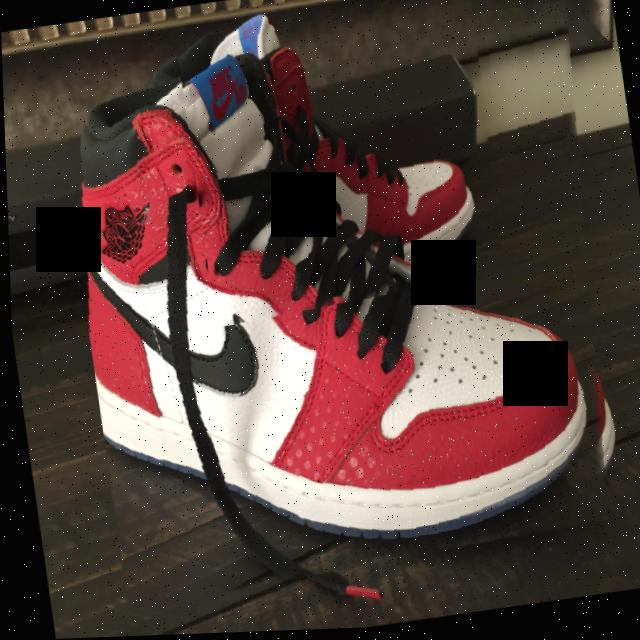shoe: (50, 3, 640, 614), (172, 0, 511, 330)
